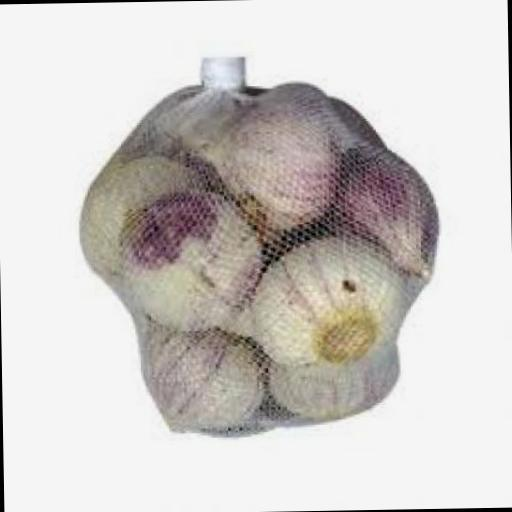biodegradable: (255, 236, 402, 373), (132, 191, 268, 332), (218, 90, 344, 233), (80, 153, 213, 283), (333, 146, 440, 282), (144, 322, 264, 436), (271, 346, 404, 423)
